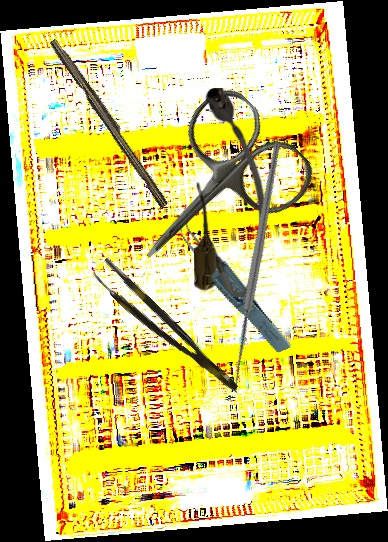Cannula: (194, 88, 265, 297)
Hook Surgical: (135, 140, 386, 401)
Iris Scissors: (99, 79, 323, 303)
Scalpel Handle: (46, 36, 174, 209)
Tissue Forceps: (89, 256, 241, 404), (175, 200, 293, 369)
